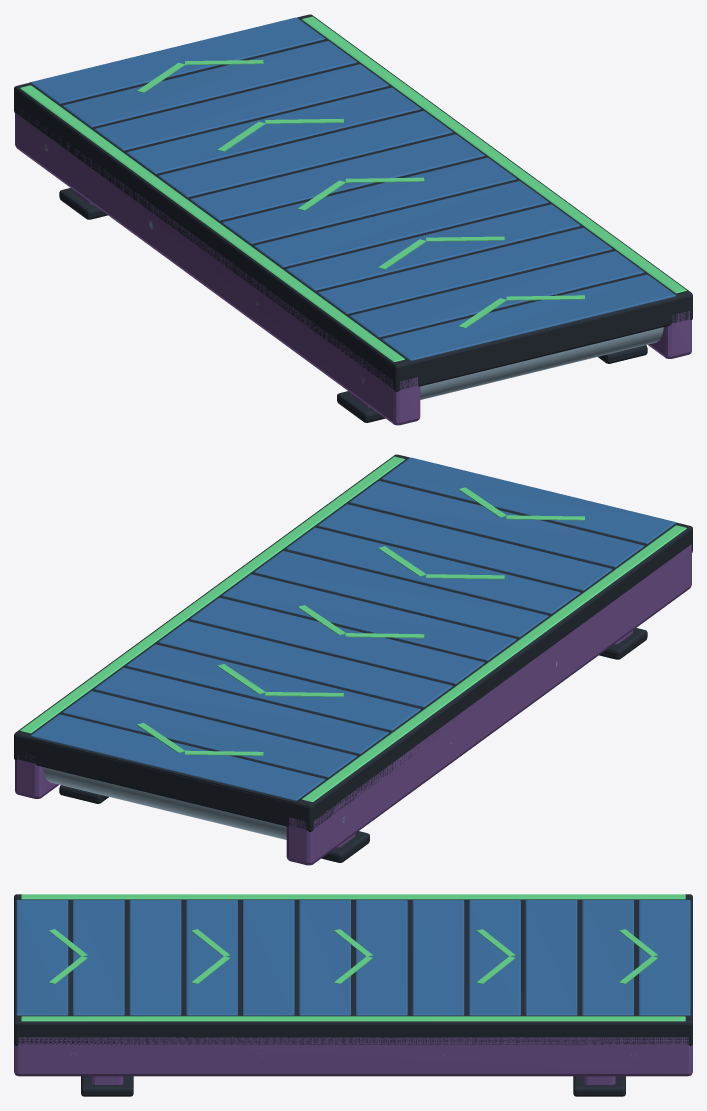
The model's file is adventure_conveyor.glb.
3 renders of one model, top to bottom at view 1: azimuth 30°, elevation 25°; view 2: azimuth 150°, elevation 25°; view 3: azimuth 270°, elevation 25°, orthographic. The views are drawn at different scales.
Visible parts, largest first — view 1: adventure_conveyor; view 2: adventure_conveyor; view 3: adventure_conveyor.
Part boxes in pixels (x1,y1,x2,y2): adventure_conveyor: (14, 14, 692, 425); adventure_conveyor: (14, 454, 692, 865); adventure_conveyor: (14, 894, 692, 1096).
Bounding box in the file's own units: 1.8 × 0.52 × 4.
